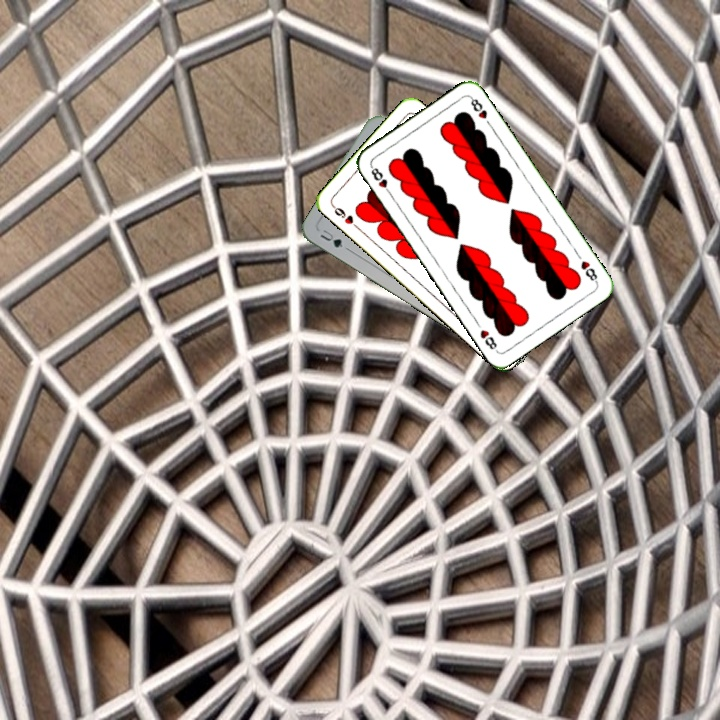GU: (316, 225, 345, 250)
H8: (366, 162, 394, 198), (577, 256, 600, 285)
H9: (328, 201, 362, 232)
